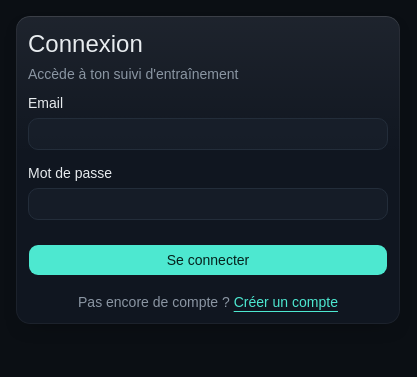
Test: LoginPage › shows a readable error message on invalid credentials
In the field labelled "Email": (208, 134) [28,118,388,150], type "arnaud@example.com"
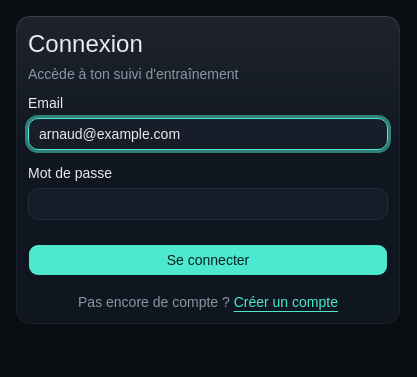
In the password field labelled "Mot de passe": (208, 204) [28,188,388,220], type "wrong-password"
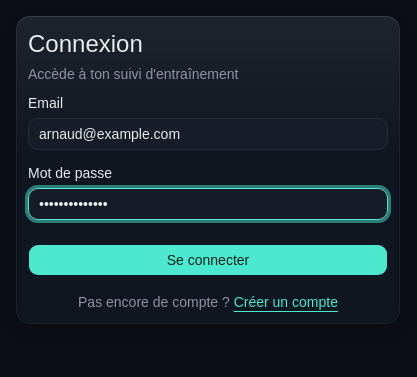
Click the button "Se connecter": (208, 260) [28,244,388,276]
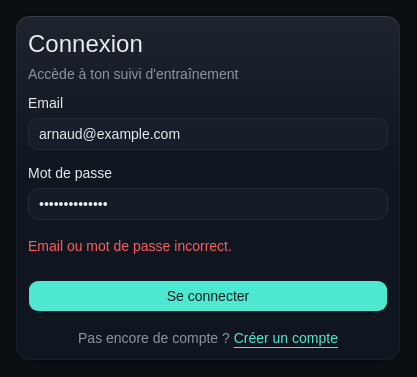
Now the message reads "Email ou mot de passe incorrect.", box [28,238,232,254]
